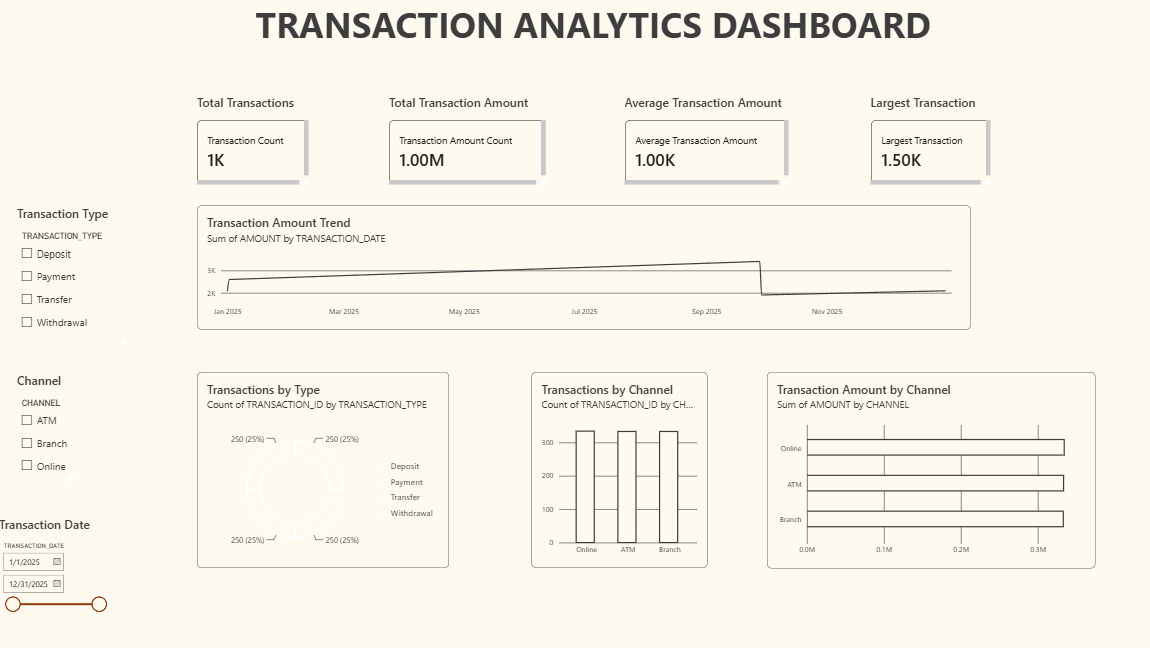

What the dashboard file says about the page in this screenshot:
{"tool":"powerbi","page":{"name":"Transaction Dashboard","canvas":[1920,1080],"ordinal":2},"visuals":[{"type":"textbox","box":[426.7,0,1126.7,80],"z":0},{"type":"cardVisual","title":"Total Transactions","fields":{"Data":["ACCOUNTS.Transaction Count"]},"box":[330,156.7,186.7,150],"z":1000},{"type":"cardVisual","title":"Total Transaction Amount","fields":{"Data":["ACCOUNTS.Transaction Amount Count"]},"box":[650,156.7,261.9,150],"z":2000},{"type":"cardVisual","title":"Average Transaction Amount","fields":{"Data":["ACCOUNTS.Average Transaction Amount"]},"box":[1043.3,156.7,273.8,150],"z":3000},{"type":"cardVisual","title":"Largest Transaction","fields":{"Data":["ACCOUNTS.Largest Transaction"]},"box":[1453.3,156.7,200,150],"z":4000},{"type":"slicer","title":"Transaction Type","fields":{"Values":["BANK_TRANSACTIONS.TRANSACTION_TYPE"]},"box":[30,343.3,183.3,230],"z":5000},{"type":"slicer","title":"Channel","fields":{"Values":["BANK_TRANSACTIONS.CHANNEL"]},"box":[30,620,93.3,183.3],"z":6000},{"type":"slicer","title":"Transaction Date","fields":{"Values":["BANK_TRANSACTIONS.TRANSACTION_DATE"]},"box":[0,860,183.3,170],"z":7000},{"type":"lineChart","title":"Transaction Amount Trend","fields":{"Category":["BANK_TRANSACTIONS.TRANSACTION_DATE"],"Y":["Sum(BANK_TRANSACTIONS.AMOUNT)"]},"box":[330,343.3,1290,206.7],"z":8000},{"type":"donutChart","title":"Transactions by Type","fields":{"Category":["BANK_TRANSACTIONS.TRANSACTION_TYPE"],"Y":["CountNonNull(BANK_TRANSACTIONS.TRANSACTION_ID)"]},"box":[330,620,420,326.7],"z":9000},{"type":"clusteredColumnChart","title":"Transactions by Channel","fields":{"Category":["BANK_TRANSACTIONS.CHANNEL"],"Y":["CountNonNull(BANK_TRANSACTIONS.TRANSACTION_ID)"]},"box":[886.7,620,293.3,326.7],"z":10000},{"type":"clusteredBarChart","title":"Transaction Amount by Channel","fields":{"Category":["BANK_TRANSACTIONS.CHANNEL"],"Y":["Sum(BANK_TRANSACTIONS.AMOUNT)"]},"box":[1280,620,547,327],"z":11000}]}

Visuals, with their boxes in screenshot pixels (x1, y1, x2, y2), scaled from the page's 1920x1080 canvas onto the 1150x648 screenshot:
textbox: BBox(256, 0, 930, 48)
"Total Transactions" cardVisual: BBox(198, 94, 309, 184)
"Total Transaction Amount" cardVisual: BBox(389, 94, 546, 184)
"Average Transaction Amount" cardVisual: BBox(625, 94, 789, 184)
"Largest Transaction" cardVisual: BBox(870, 94, 990, 184)
"Transaction Type" slicer: BBox(18, 206, 128, 344)
"Channel" slicer: BBox(18, 372, 74, 482)
"Transaction Date" slicer: BBox(0, 516, 110, 618)
"Transaction Amount Trend" lineChart: BBox(198, 206, 970, 330)
"Transactions by Type" donutChart: BBox(198, 372, 449, 568)
"Transactions by Channel" clusteredColumnChart: BBox(531, 372, 707, 568)
"Transaction Amount by Channel" clusteredBarChart: BBox(767, 372, 1094, 568)
